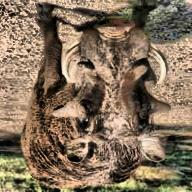boar: (14, 7, 172, 190)
